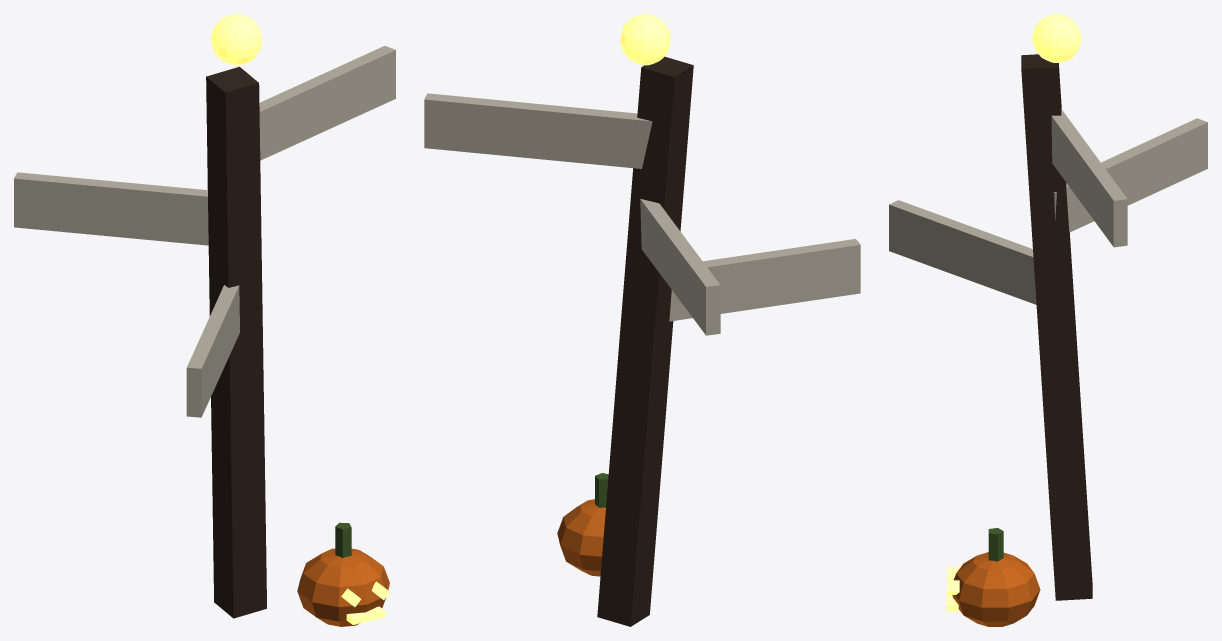
File: signpost-crooked.glb
3 views of the same model, side by side, from view 1: azimuth 30°, elevation 25°; view 2: azimuth 150°, elevation 25°; view 3: azimuth 270°, elevation 25° (orthographic). The views are drawn at different scales.
Parts seen in each view (by area): view 1: cw_paint, cw_glow; view 2: cw_paint, cw_glow; view 3: cw_paint, cw_glow.
Part boxes in pixels (left/top/right/bottom): cw_paint: left=14, top=46, right=395, bottom=626; cw_glow: left=211, top=14, right=389, bottom=624; cw_paint: left=424, top=56, right=860, bottom=626; cw_glow: left=620, top=14, right=670, bottom=65; cw_paint: left=889, top=54, right=1207, bottom=626; cw_glow: left=946, top=14, right=1081, bottom=611.
Bounding box in the file's own units: 1.81 × 3.08 × 1.55.
